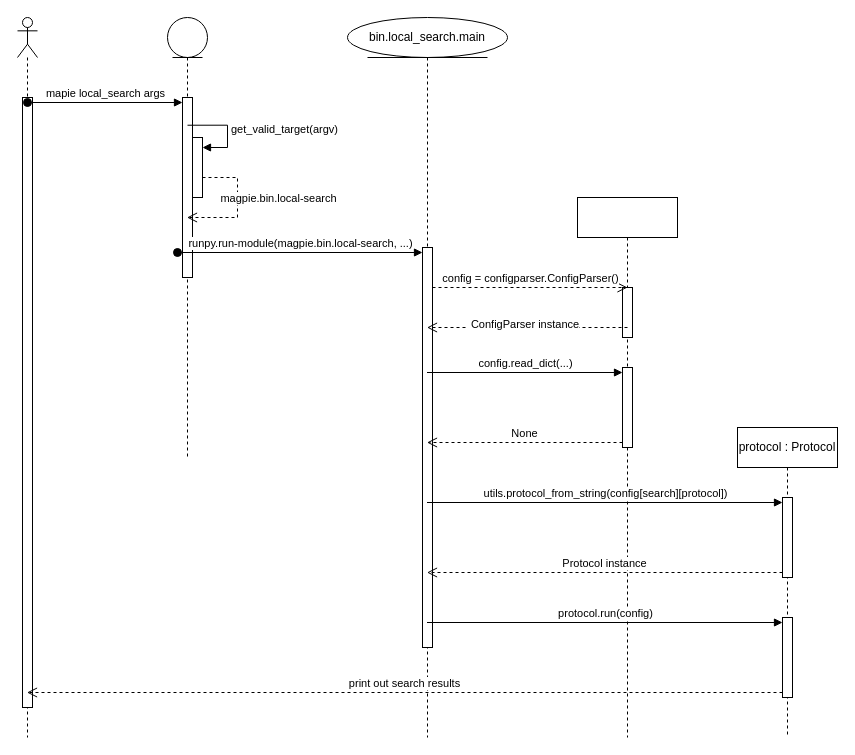
This 855x755 diagram has some shape labels left out. Here are the shapes that lost their labels. From the top down, the centre of each, then its label:
At (187,237): "main".
At (627,467): "config : ConfigParser".
